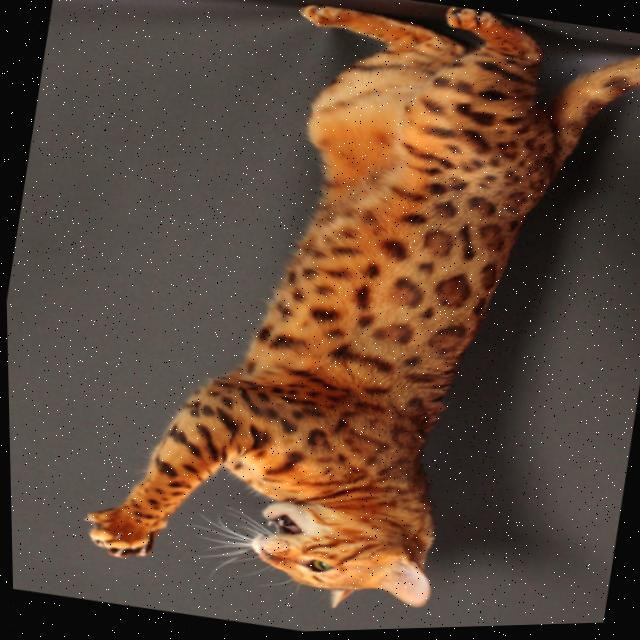Bengal: (51, 0, 640, 639)
